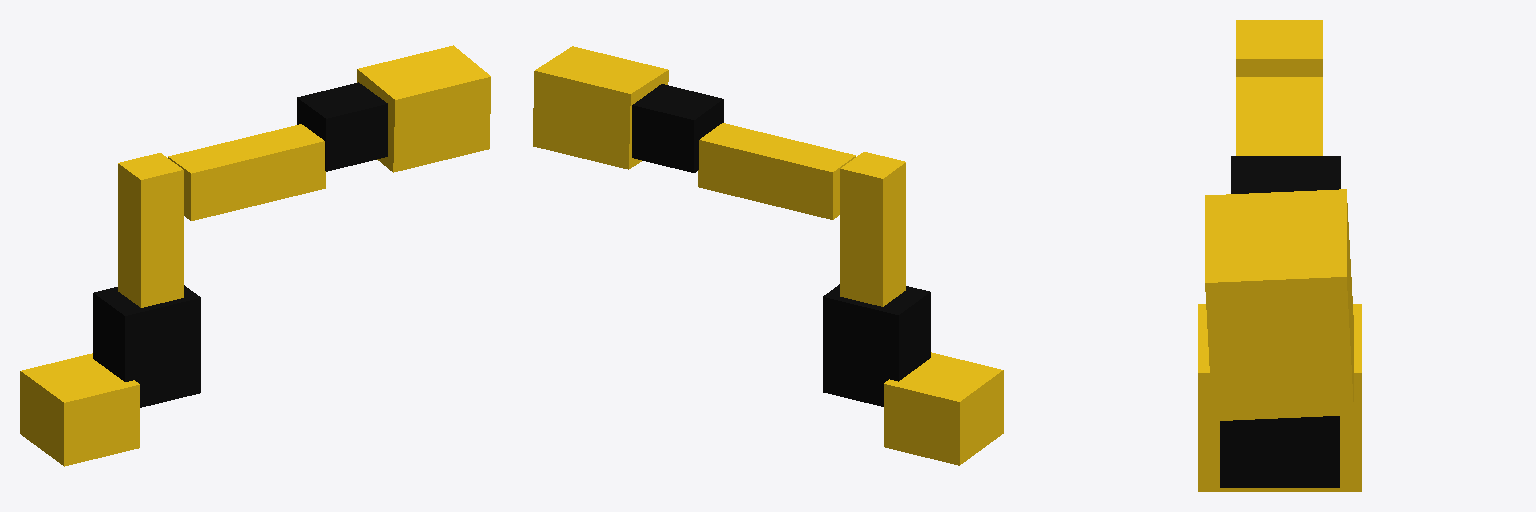
URDF robot description (so101_planning):
<?xml version="1.0"?>
<!--
Copyright 2025-2026 Dimensional Inc.

Licensed under the Apache License, Version 2.0 (the "License");
you may not use this file except in compliance with the License.
You may obtain a copy of the License at

    http://www.apache.org/licenses/LICENSE-2.0

Unless required by applicable law or agreed to in writing, software
distributed under the License is distributed on an "AS IS" BASIS,
WITHOUT WARRANTIES OR CONDITIONS OF ANY KIND, either express or implied.
See the License for the specific language governing permissions and
limitations under the License.
-->
<!--
  Lightweight SO101 planning model.

  Joint frames and limits match so101_new_calib.urdf. Detailed STL visuals
  remain in the AlohaMini2 MuJoCo model; the primitive geometry here keeps
  FK, IK and collision queries inexpensive.
-->
<robot name="so101_planning">
  <material name="so101_yellow">
    <color rgba="1.0 0.82 0.12 1.0"/>
  </material>
  <material name="servo_black">
    <color rgba="0.08 0.08 0.08 1.0"/>
  </material>

  <link name="base_link">
    <inertial>
      <origin xyz="0 0 0.03"/>
      <mass value="0.147"/>
      <inertia ixx="0.00013" ixy="0" ixz="0" iyy="0.00013" iyz="0" izz="0.00013"/>
    </inertial>
    <visual>
      <origin xyz="0 0 0.03"/>
      <geometry><box size="0.075 0.075 0.06"/></geometry>
      <material name="so101_yellow"/>
    </visual>
    <collision>
      <origin xyz="0 0 0.03"/>
      <geometry><box size="0.065 0.065 0.055"/></geometry>
    </collision>
  </link>

  <link name="shoulder_link">
    <inertial>
      <origin xyz="-0.03076 0 -0.02527"/>
      <mass value="0.100006"/>
      <inertia ixx="0.00008" ixy="0" ixz="0" iyy="0.00008" iyz="0" izz="0.000025"/>
    </inertial>
    <visual>
      <origin xyz="-0.027 0 -0.015"/>
      <geometry><box size="0.075 0.055 0.09"/></geometry>
      <material name="servo_black"/>
    </visual>
    <collision>
      <origin xyz="-0.027 0 -0.015"/>
      <geometry><box size="0.065 0.048 0.08"/></geometry>
    </collision>
  </link>

  <joint name="shoulder_pan" type="revolute">
    <origin xyz="0.0388353 -8.97657e-09 0.0624" rpy="3.14159 4.18253e-17 -3.14159"/>
    <parent link="base_link"/>
    <child link="shoulder_link"/>
    <axis xyz="0 0 1"/>
    <limit effort="10" velocity="0.8" lower="-1.9198621771937616" upper="1.9198621771937634"/>
  </joint>

  <link name="upper_arm_link">
    <inertial>
      <origin xyz="-0.08985 -0.00838 0.01841"/>
      <mass value="0.103"/>
      <inertia ixx="0.00004" ixy="0" ixz="0" iyy="0.000147" iyz="0" izz="0.000142"/>
    </inertial>
    <visual>
      <origin xyz="-0.064 0 0.018"/>
      <geometry><box size="0.125 0.042 0.04"/></geometry>
      <material name="so101_yellow"/>
    </visual>
    <collision>
      <origin xyz="-0.064 0 0.018"/>
      <geometry><box size="0.115 0.034 0.032"/></geometry>
    </collision>
  </link>

  <joint name="shoulder_lift" type="revolute">
    <origin xyz="-0.0303992 -0.0182778 -0.0542" rpy="-1.5708 -1.5708 0"/>
    <parent link="shoulder_link"/>
    <child link="upper_arm_link"/>
    <axis xyz="0 0 1"/>
    <limit effort="10" velocity="0.8" lower="-1.7453292519943224" upper="1.7453292519943366"/>
  </joint>

  <link name="lower_arm_link">
    <inertial>
      <origin xyz="-0.09807 0.00324 0.01828"/>
      <mass value="0.104"/>
      <inertia ixx="0.000029" ixy="0" ixz="0" iyy="0.00016" iyz="0" izz="0.000145"/>
    </inertial>
    <visual>
      <origin xyz="-0.067 -0.014 0.018"/>
      <geometry><box size="0.133 0.045 0.04"/></geometry>
      <material name="so101_yellow"/>
    </visual>
    <collision>
      <origin xyz="-0.067 -0.014 0.018"/>
      <geometry><box size="0.123 0.036 0.032"/></geometry>
    </collision>
  </link>

  <joint name="elbow_flex" type="revolute">
    <origin xyz="-0.11257 -0.028 1.73763e-16" rpy="-3.63608e-16 8.74301e-16 1.5708"/>
    <parent link="upper_arm_link"/>
    <child link="lower_arm_link"/>
    <axis xyz="0 0 1"/>
    <limit effort="10" velocity="0.8" lower="-1.69" upper="1.69"/>
  </joint>

  <link name="wrist_link">
    <inertial>
      <origin xyz="0 -0.03861 0.02812"/>
      <mass value="0.079"/>
      <inertia ixx="0.000037" ixy="0" ixz="0" iyy="0.000025" iyz="0" izz="0.000021"/>
    </inertial>
    <visual>
      <origin xyz="0 -0.03 0.021"/>
      <geometry><box size="0.05 0.065 0.05"/></geometry>
      <material name="servo_black"/>
    </visual>
    <collision>
      <origin xyz="0 -0.03 0.021"/>
      <geometry><box size="0.043 0.055 0.043"/></geometry>
    </collision>
  </link>

  <joint name="wrist_flex" type="revolute">
    <origin xyz="-0.1349 0.0052 3.62355e-17" rpy="4.02456e-15 8.67362e-16 -1.5708"/>
    <parent link="lower_arm_link"/>
    <child link="wrist_link"/>
    <axis xyz="0 0 1"/>
    <limit effort="10" velocity="0.8" lower="-1.6580628494556928" upper="1.6580627293335335"/>
  </joint>

  <link name="gripper_link">
    <inertial>
      <origin xyz="0 0 -0.025"/>
      <mass value="0.099"/>
      <inertia ixx="0.000035" ixy="0" ixz="0" iyy="0.000043" iyz="0" izz="0.000035"/>
    </inertial>
    <visual>
      <origin xyz="0 0 -0.045"/>
      <geometry><box size="0.07 0.065 0.095"/></geometry>
      <material name="so101_yellow"/>
    </visual>
    <collision>
      <origin xyz="0 0 -0.043"/>
      <geometry><box size="0.055 0.05 0.082"/></geometry>
    </collision>
  </link>

  <joint name="wrist_roll" type="revolute">
    <origin xyz="5.55112e-17 -0.0611 0.0181" rpy="1.5708 0.0486795 3.14159"/>
    <parent link="wrist_link"/>
    <child link="gripper_link"/>
    <axis xyz="0 0 1"/>
    <limit effort="10" velocity="0.8" lower="-2.7438472969992493" upper="2.841206309382605"/>
  </joint>

  <link name="gripper_frame_link">
    <inertial>
      <mass value="0.000001"/>
      <inertia ixx="0.000000001" ixy="0" ixz="0" iyy="0.000000001" iyz="0" izz="0.000000001"/>
    </inertial>
  </link>
  <joint name="gripper_frame_joint" type="fixed">
    <origin xyz="-0.0079 -0.000218121 -0.0981274" rpy="0 3.14159 0"/>
    <parent link="gripper_link"/>
    <child link="gripper_frame_link"/>
  </joint>
</robot>

--- Facts derived from the render (not from the file) ---
The picture shows the robot from 3 angles, left to right: view 1: azimuth 30°, elevation 25°; view 2: azimuth 150°, elevation 25°; view 3: azimuth 270°, elevation 25°; orthographic projection.
Robot: so101_planning — 7 links, 6 joints (5 revolute, 1 fixed); root link base_link; default pose: all joints at 0.
Links seen in each view (by area): view 1: gripper_link, base_link, shoulder_link, lower_arm_link, upper_arm_link, wrist_link; view 2: gripper_link, base_link, shoulder_link, lower_arm_link, upper_arm_link, wrist_link; view 3: gripper_link, shoulder_link, lower_arm_link, base_link, upper_arm_link, wrist_link.
Link boxes in pixels (x1=…): gripper_link: x1=357, y1=45, x2=490, y2=172; base_link: x1=20, y1=353, x2=139, y2=466; shoulder_link: x1=93, y1=285, x2=200, y2=407; lower_arm_link: x1=168, y1=124, x2=325, y2=220; upper_arm_link: x1=118, y1=153, x2=183, y2=307; wrist_link: x1=297, y1=82, x2=387, y2=171; gripper_link: x1=533, y1=46, x2=668, y2=169; base_link: x1=884, y1=352, x2=1003, y2=465; shoulder_link: x1=823, y1=284, x2=930, y2=406; lower_arm_link: x1=698, y1=123, x2=855, y2=219; upper_arm_link: x1=840, y1=152, x2=905, y2=306; wrist_link: x1=632, y1=84, x2=723, y2=172; gripper_link: x1=1205, y1=189, x2=1353, y2=420; shoulder_link: x1=1220, y1=416, x2=1339, y2=487; lower_arm_link: x1=1236, y1=77, x2=1322, y2=155; base_link: x1=1198, y1=304, x2=1361, y2=491; upper_arm_link: x1=1236, y1=20, x2=1322, y2=76; wrist_link: x1=1231, y1=156, x2=1340, y2=193.
Bounding box of the posed robot: 0.4232 × 0.075 × 0.2709 m (x, y, z).
Geometry: primitives only (box / cylinder / sphere), no mesh files.
